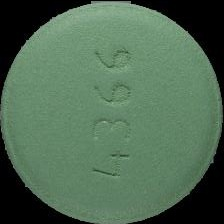0172-4366: (0, 0, 224, 224)
